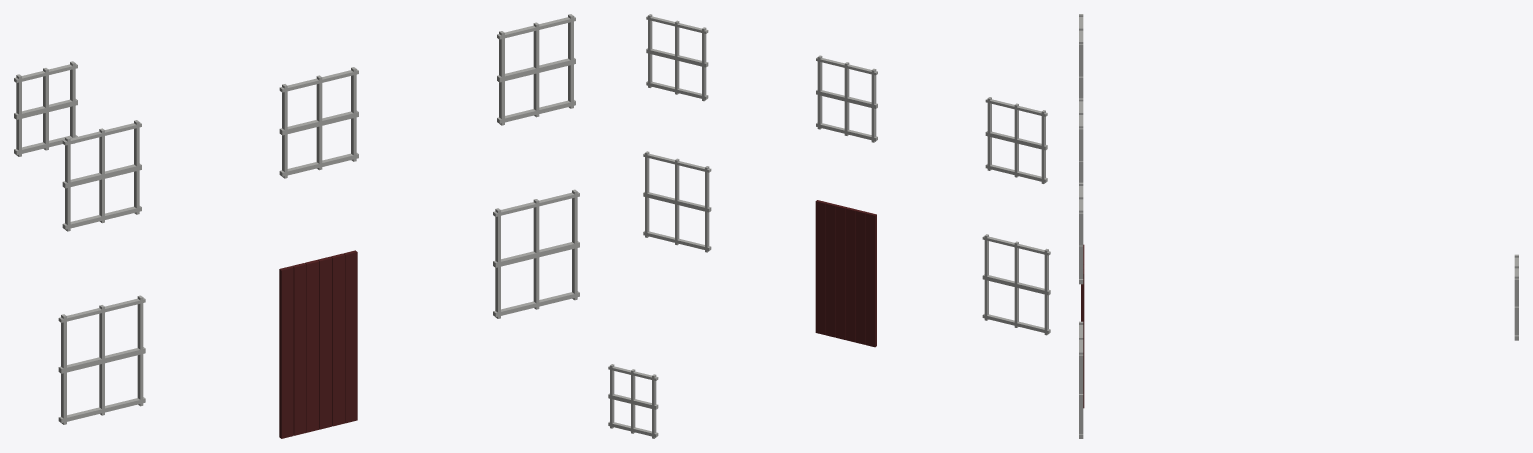
The model's file is SM_Bld_072_Wood.glb.
3 renders of one model, left to right at view 1: azimuth 30°, elevation 25°; view 2: azimuth 150°, elevation 25°; view 3: azimuth 270°, elevation 25°, orthographic. The views are drawn at different scales.
Visible parts, largest first — view 1: SM_Bld_072_Wood; view 2: SM_Bld_072_Wood; view 3: SM_Bld_072_Wood.
Part boxes in pixels (left/top/right/bottom): SM_Bld_072_Wood: left=14, top=14, right=579, bottom=438; SM_Bld_072_Wood: left=608, top=14, right=1050, bottom=438; SM_Bld_072_Wood: left=1079, top=14, right=1518, bottom=438.
Bounding box in the file's own units: 6.77 × 4.4 × 6.24.
